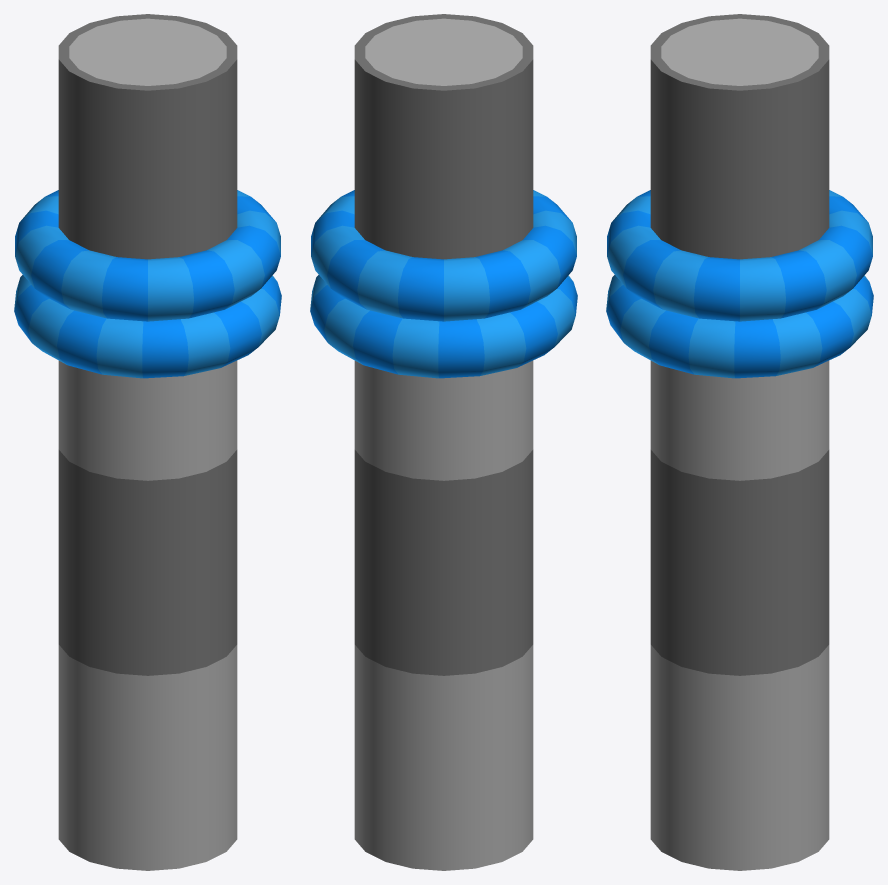
File: Stick.FBX
The picture shows the model from 3 angles, left to right: view 1: azimuth 30°, elevation 25°; view 2: azimuth 150°, elevation 25°; view 3: azimuth 270°, elevation 25°; orthographic projection.
Visible parts, largest first — view 1: Cylinder001, Shape001; view 2: Cylinder001, Shape001; view 3: Cylinder001, Shape001.
Boxes of the visible parts, x1,y1,x2,y2 form: Cylinder001: [58, 14, 237, 870]; Shape001: [14, 190, 281, 378]; Cylinder001: [354, 14, 533, 870]; Shape001: [310, 190, 577, 378]; Cylinder001: [650, 14, 829, 870]; Shape001: [606, 190, 873, 378].
Bounding box in the file's own units: 24.82 × 79.1 × 24.6.
1 material, 1 textured.
